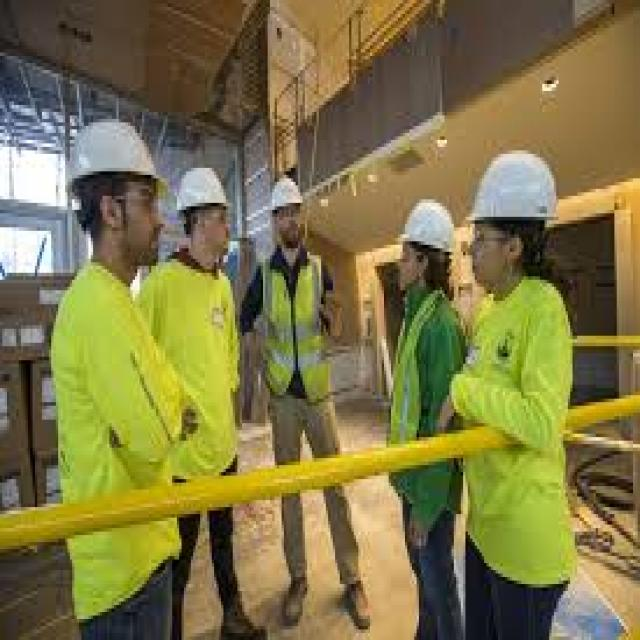Reflective-Jacket: (379, 283, 470, 451), (254, 245, 342, 409)
Safety-Helmet: (461, 140, 568, 245), (60, 112, 174, 206), (391, 189, 461, 269), (172, 161, 233, 224), (258, 168, 308, 224)
